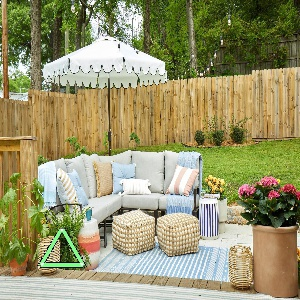triangle: (35, 226, 88, 271)
